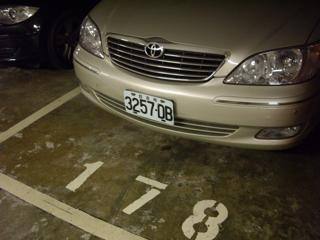plate: (122, 87, 176, 126)
